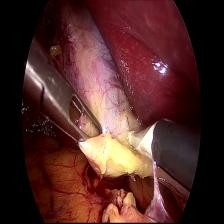Grasper: (23, 36, 105, 162)
Hook: (122, 112, 161, 158)
